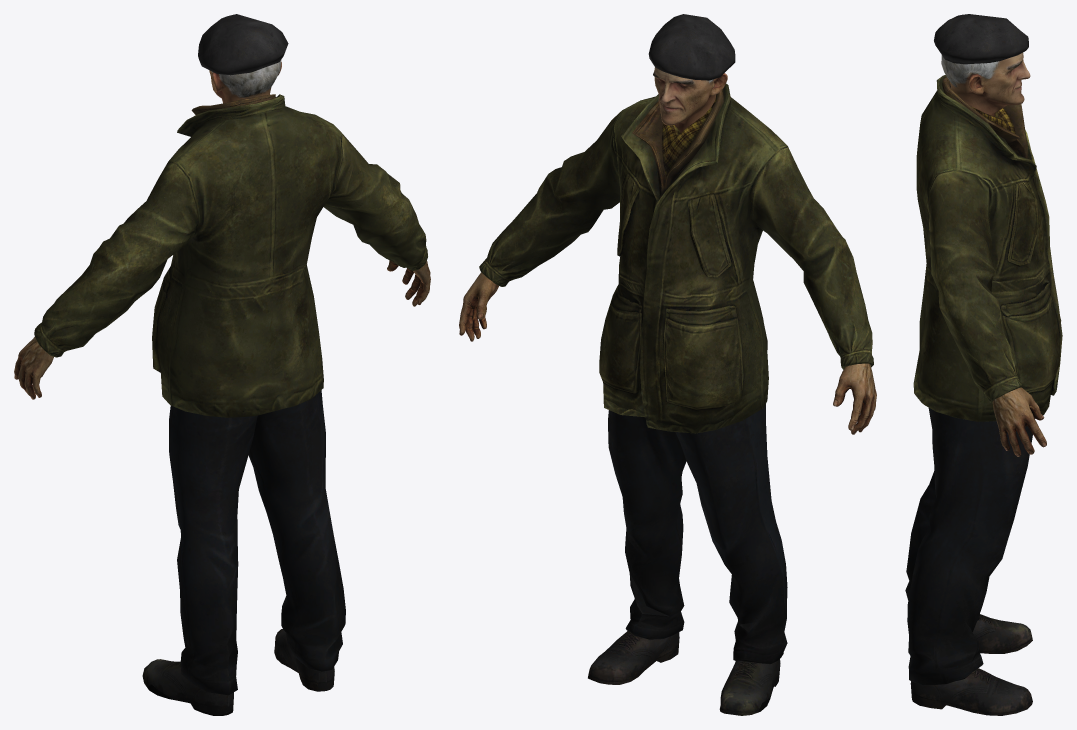
File: Ded 1.fbx
The picture shows the model from 3 angles, left to right: view 1: azimuth 30°, elevation 25°; view 2: azimuth 150°, elevation 25°; view 3: azimuth 270°, elevation 25°; orthographic projection.
Parts seen in each view (by area): view 1: p3dm.ru_sarajevo_a_jacket; view 2: p3dm.ru_sarajevo_a_jacket; view 3: p3dm.ru_sarajevo_a_jacket.
Boxes of the visible parts, x1,y1,x2,y2 form: p3dm.ru_sarajevo_a_jacket: [14, 14, 430, 715]; p3dm.ru_sarajevo_a_jacket: [459, 14, 876, 715]; p3dm.ru_sarajevo_a_jacket: [905, 14, 1062, 715].
Size of the model in its own units: 220 by 343 by 74.02.
